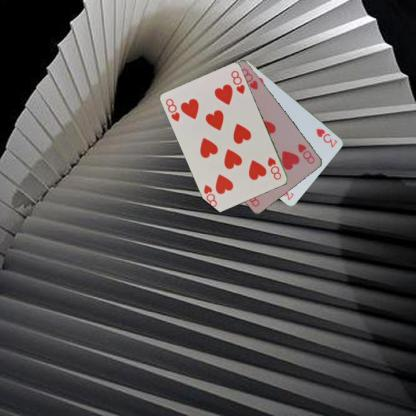3h: (314, 126, 338, 148)
8h: (295, 141, 317, 165), (265, 154, 283, 181), (163, 96, 181, 123)
